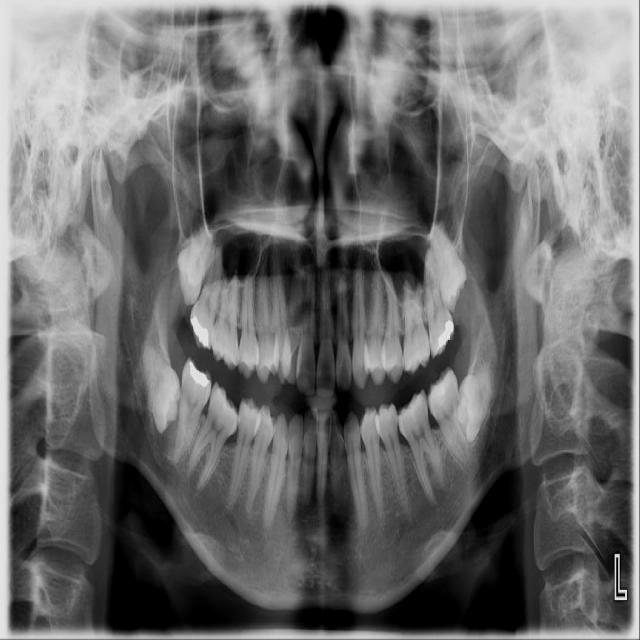Filling: (436, 318, 456, 352), (190, 315, 211, 345), (188, 361, 208, 385)
impacted tooth: (141, 328, 180, 432), (429, 221, 468, 307), (458, 349, 493, 441)
